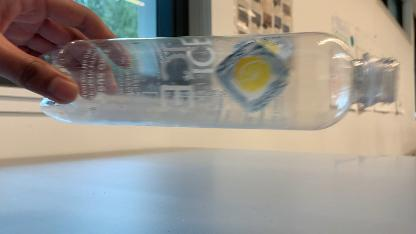Plastic Bottle: (17, 33, 405, 147)
